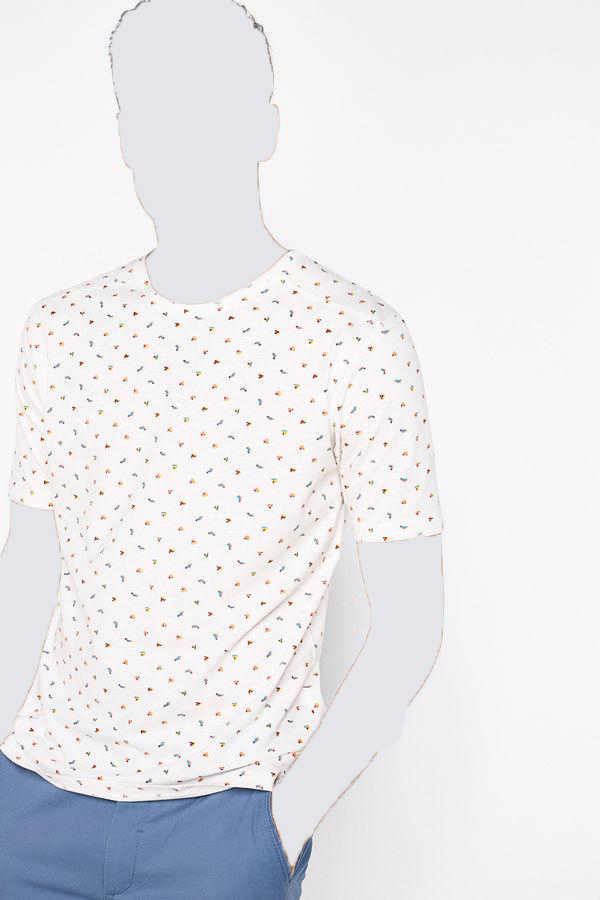teeshirt: (9, 249, 449, 810)
